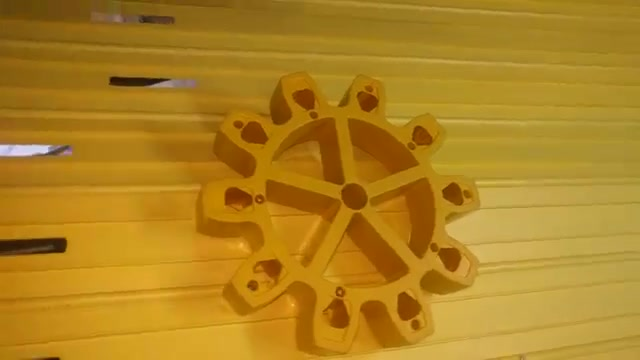gear: (202, 47, 488, 360)
